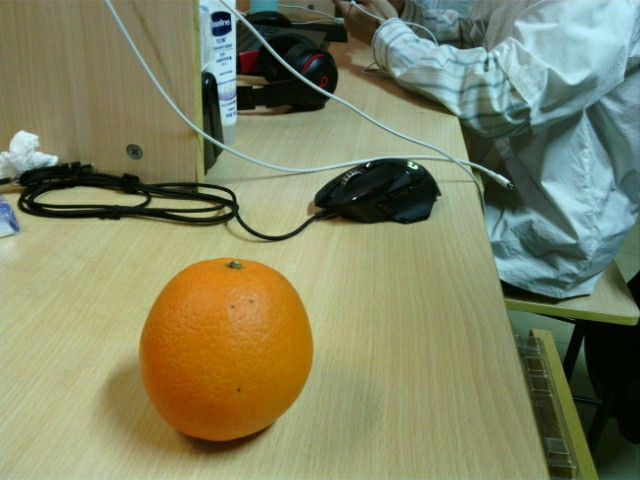normal_orange: (139, 258, 313, 439)
